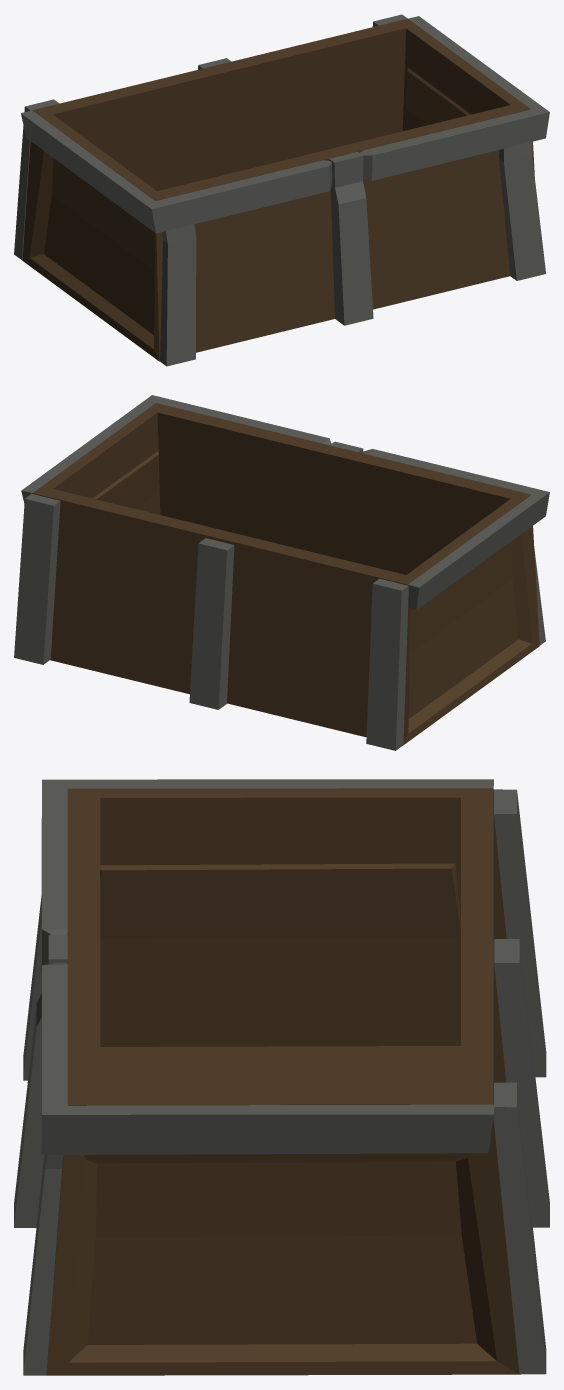
File: ChestSmall.glb
The picture shows the model from 3 angles, top to bottom: view 1: azimuth 30°, elevation 25°; view 2: azimuth 150°, elevation 25°; view 3: azimuth 270°, elevation 25°; orthographic projection. The views are drawn at different scales.
Visible parts, largest first — view 1: ChestSmall.001; view 2: ChestSmall.001; view 3: ChestSmall.001.
Part boxes in pixels (x1,y1,x2,y2): ChestSmall.001: (14,14,549,366); ChestSmall.001: (14,395,549,750); ChestSmall.001: (14,779,549,1375).
Bounding box in the file's own units: 0.4889 × 0.1831 × 0.3303.
Materials: 2 (2 with a texture image).
